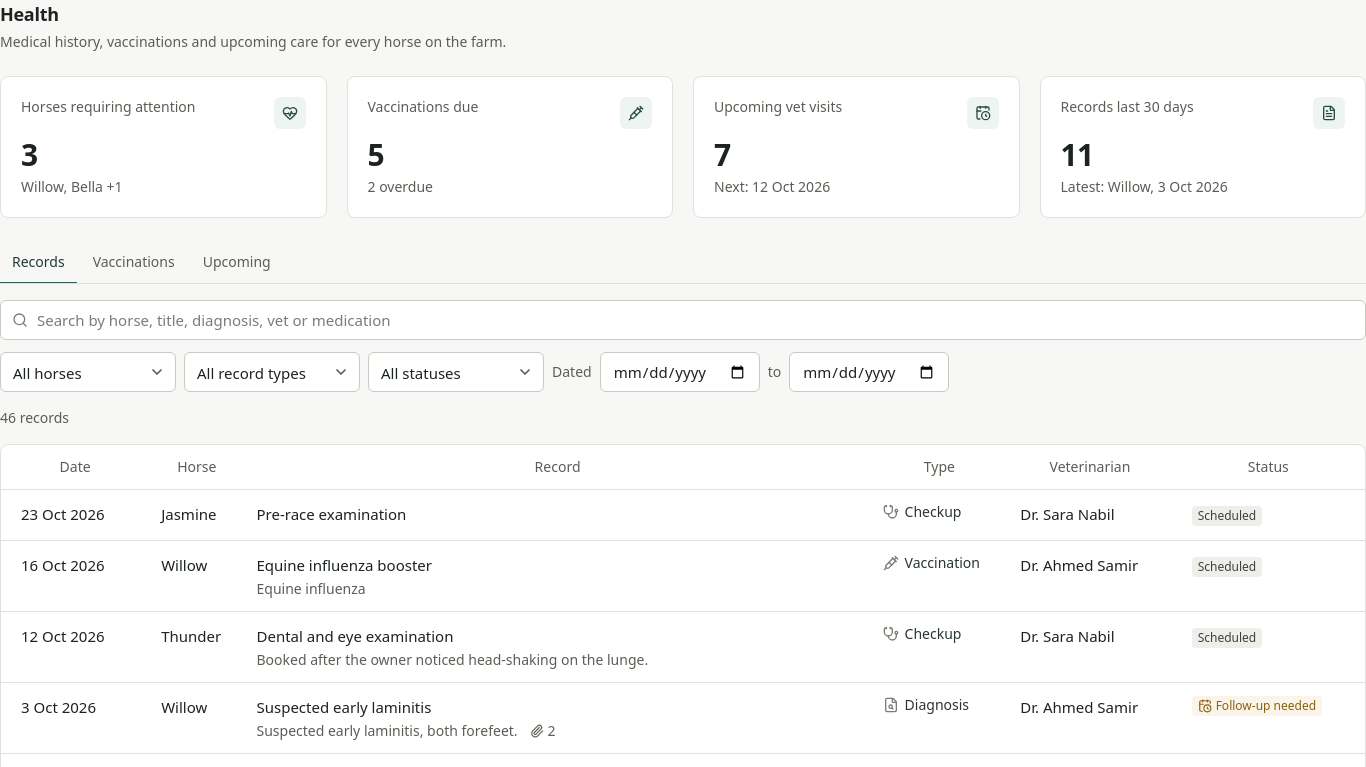
Test: MedicalOverviewPage › distinguishes no results from no data
The width and height of the screenshot is (1366, 767).
Type "no such record anywhere" into the search field named "search medical records". click: (683, 320)
box: 0,300 -> 1365,340
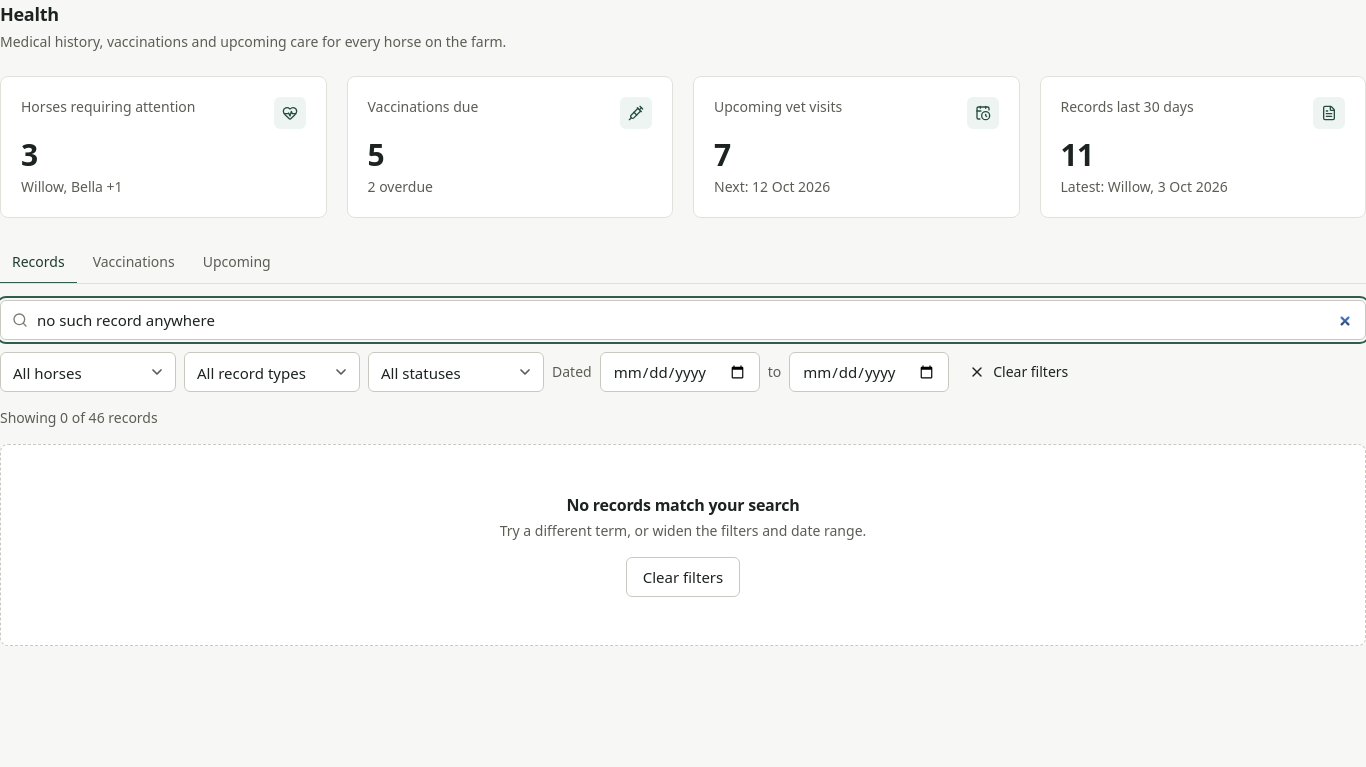
Expected: the text "No medical records yet" is not shown
Expected: the heading "No records match your search" is shown, 566,494 -> 800,516
